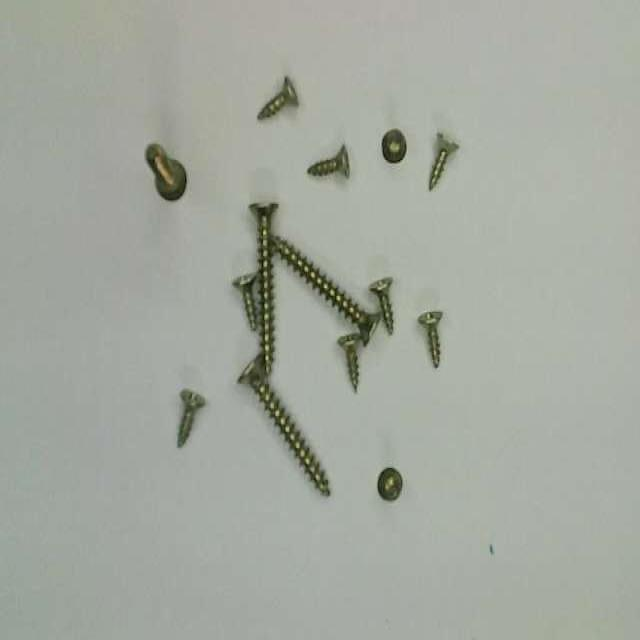Parafuso: (238, 356, 329, 493), (269, 232, 380, 344), (250, 204, 278, 372), (146, 143, 186, 200), (258, 76, 297, 119), (429, 132, 458, 189), (178, 389, 205, 447), (418, 312, 442, 367), (233, 272, 256, 329), (307, 144, 349, 175), (338, 333, 360, 391), (369, 279, 392, 332), (378, 468, 402, 499), (382, 129, 405, 161)
